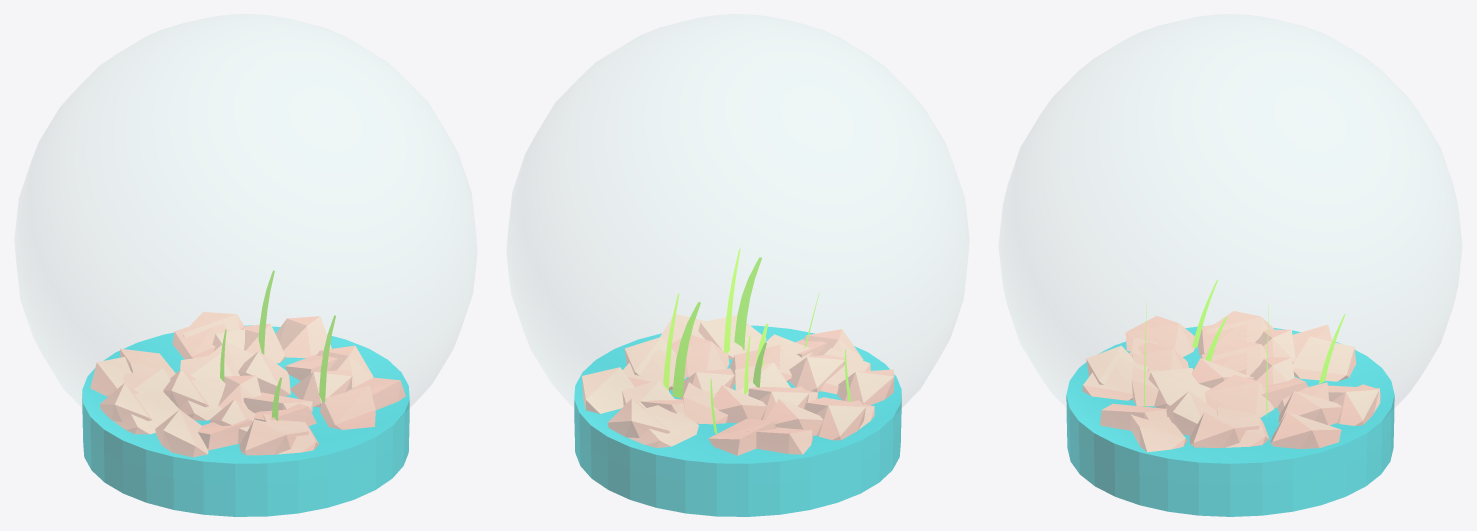
The model's file is fishtank_round.gltf.
3 views of the same model, side by side, from view 1: azimuth 30°, elevation 25°; view 2: azimuth 150°, elevation 25°; view 3: azimuth 270°, elevation 25° (orthographic).
Parts seen in each view (by area): view 1: Object002, Sphere032, Sphere056, Sphere050, Sphere031, Sphere041, Sphere040, Sphere057, Sphere058, Sphere053, Sphere043, Sphere052 (+16 smaller); view 2: Object002, Sphere056, Sphere050, Sphere043, Sphere058, Sphere034, Sphere054, Sphere040, Sphere052, Sphere045, Sphere032, Sphere042 (+16 smaller); view 3: Object002, Sphere054, Sphere057, Sphere056, Sphere036, Sphere050, Sphere037, Sphere030, Sphere033, Sphere045, Sphere044, Sphere040 (+13 smaller).
Boxes of the visible parts, x1=… form: Object002: x1=82, y1=325, x2=409, y2=516; Sphere032: x1=320, y1=385, x2=375, y2=429; Sphere056: x1=275, y1=316, x2=331, y2=357; Sphere050: x1=155, y1=409, x2=208, y2=457; Sphere031: x1=239, y1=419, x2=308, y2=455; Sphere041: x1=113, y1=391, x2=179, y2=434; Sphere040: x1=290, y1=370, x2=352, y2=407; Sphere057: x1=238, y1=351, x2=290, y2=396; Sphere058: x1=100, y1=383, x2=152, y2=422; Sphere053: x1=179, y1=377, x2=225, y2=420; Sphere043: x1=172, y1=324, x2=227, y2=359; Sphere052: x1=90, y1=355, x2=134, y2=396; Object002: x1=574, y1=325, x2=901, y2=516; Sphere056: x1=582, y1=367, x2=634, y2=413; Sphere050: x1=837, y1=369, x2=894, y2=405; Sphere043: x1=628, y1=405, x2=698, y2=447; Sphere058: x1=816, y1=400, x2=865, y2=440; Sphere034: x1=789, y1=354, x2=844, y2=392; Sphere054: x1=708, y1=418, x2=776, y2=455; Sphere040: x1=671, y1=335, x2=729, y2=376; Sphere052: x1=746, y1=427, x2=812, y2=454; Sphere045: x1=607, y1=398, x2=670, y2=437; Sphere032: x1=698, y1=315, x2=766, y2=359; Sphere042: x1=713, y1=385, x2=766, y2=422; Object002: x1=1066, y1=326, x2=1394, y2=516; Sphere054: x1=1292, y1=336, x2=1356, y2=381; Sphere057: x1=1205, y1=375, x2=1274, y2=417; Sphere056: x1=1270, y1=412, x2=1341, y2=448; Sphere036: x1=1189, y1=412, x2=1259, y2=447; Sphere050: x1=1125, y1=316, x2=1194, y2=356; Sphere037: x1=1130, y1=414, x2=1187, y2=452; Sphere030: x1=1148, y1=368, x2=1210, y2=408; Sphere033: x1=1082, y1=358, x2=1149, y2=400; Sphere045: x1=1332, y1=384, x2=1379, y2=425; Sphere044: x1=1278, y1=391, x2=1342, y2=425; Sphere040: x1=1166, y1=391, x2=1217, y2=435.
Size of the model in its own units: 1.21 by 1.19 by 1.21.
